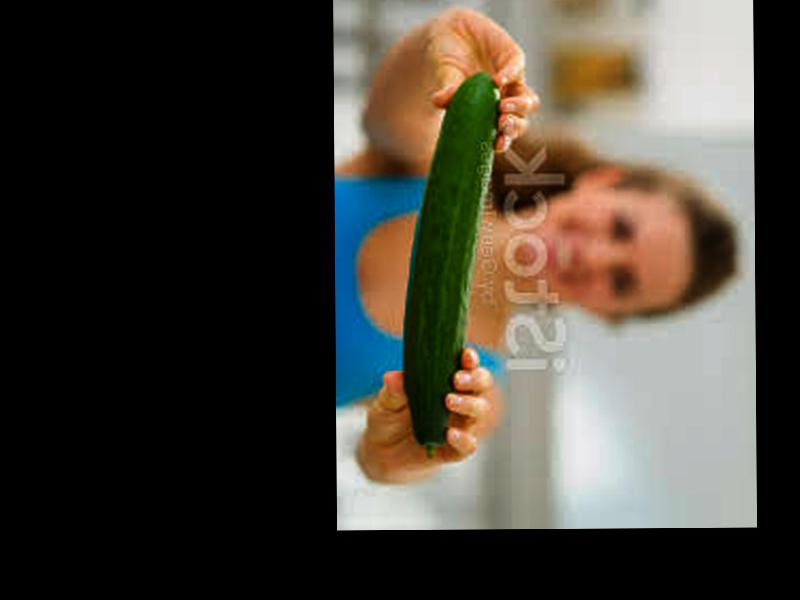Cucumber: (401, 71, 498, 457)
